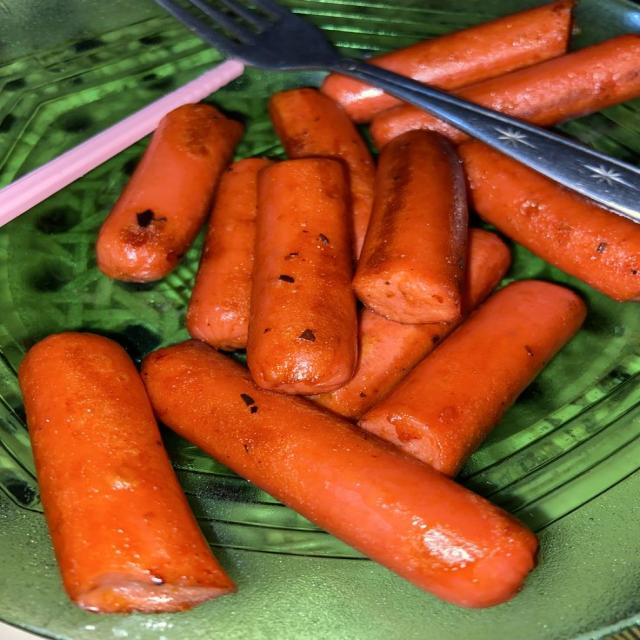sausage: (143, 342, 536, 607), (20, 333, 235, 612), (359, 281, 585, 476), (459, 142, 639, 301), (97, 104, 242, 281), (247, 159, 356, 394), (354, 132, 467, 324), (372, 0, 573, 90), (269, 89, 374, 257), (457, 34, 639, 125), (311, 308, 457, 420), (187, 158, 271, 350)
